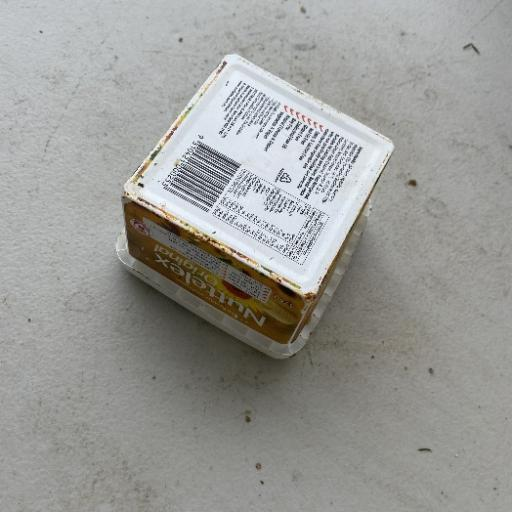Plastic: (113, 52, 396, 360)
